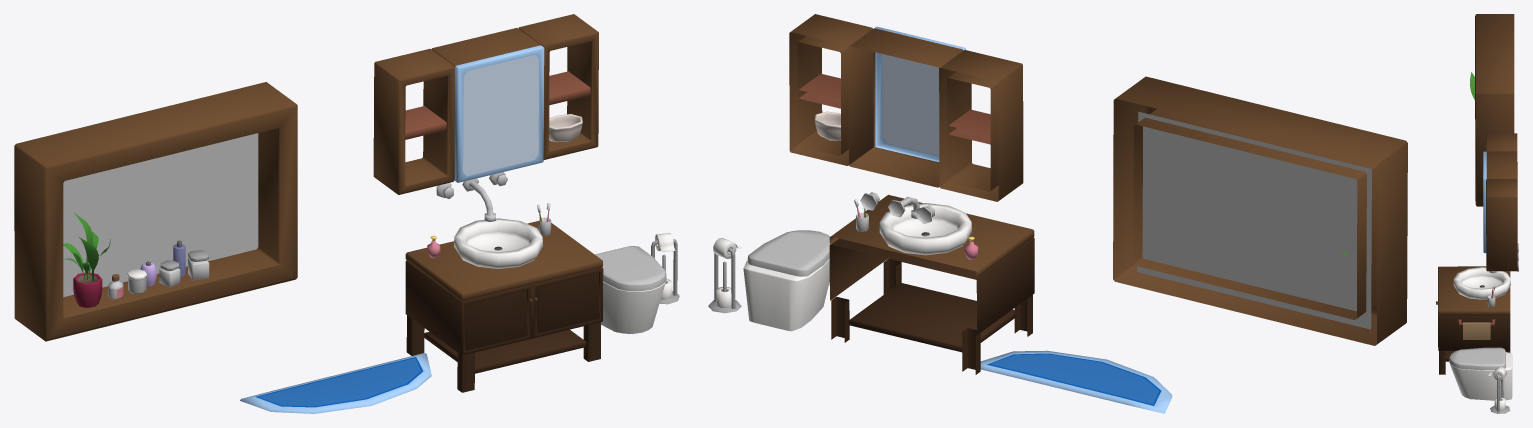
File: Washroom.fbx
The picture shows the model from 3 angles, left to right: view 1: azimuth 30°, elevation 25°; view 2: azimuth 150°, elevation 25°; view 3: azimuth 270°, elevation 25°; orthographic projection. The views are drawn at different scales.
Visible parts, largest first — view 1: Window_01, Mirror, Table_01, Carpet, commode, sink_01, Pot_06, toilet paper roll, Bowl, Bottle_06; view 2: Window_01, Mirror, Table_01, commode, Carpet, sink_01, toilet paper roll, Bowl; view 3: Window_01, Mirror, Table_01, commode, sink_01, toilet paper roll, Brush, Pot_06.
Part boxes in pixels (box(x1,y1,x2,y2)): Window_01: box(14, 82, 297, 341); Mirror: box(373, 14, 598, 194); Table_01: box(405, 221, 603, 392); Carpet: box(240, 353, 431, 413); commode: box(595, 246, 666, 333); sink_01: box(436, 172, 542, 268); Pot_06: box(63, 213, 110, 307); toilet paper roll: box(651, 233, 679, 304); Bowl: box(549, 114, 582, 142); Bottle_06: box(188, 250, 209, 280); Window_01: box(1113, 76, 1407, 345); Mirror: box(789, 14, 1023, 201); Table_01: box(829, 194, 1034, 374); commode: box(743, 230, 830, 331); Carpet: box(980, 350, 1172, 413); sink_01: box(860, 192, 971, 255); toilet paper roll: box(708, 238, 742, 313); Bowl: box(814, 111, 840, 140); Window_01: box(1475, 14, 1514, 206); Mirror: box(1483, 133, 1517, 271); Table_01: box(1436, 266, 1510, 374); commode: box(1449, 347, 1512, 400); sink_01: box(1453, 243, 1518, 299); toilet paper roll: box(1488, 367, 1510, 413); Brush: box(1487, 285, 1495, 306); Pot_06: box(1470, 72, 1474, 99).
Bounding box in the file's own units: 655 × 290 × 111.
